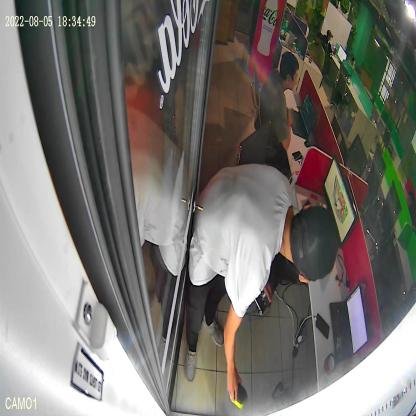yellow: (230, 382, 248, 409)
